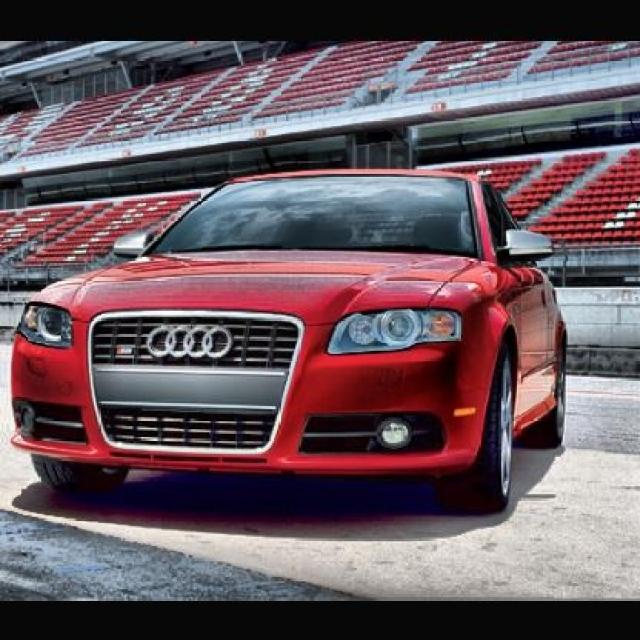red: (9, 172, 568, 516)
white: (80, 204, 84, 206), (12, 170, 15, 171)
